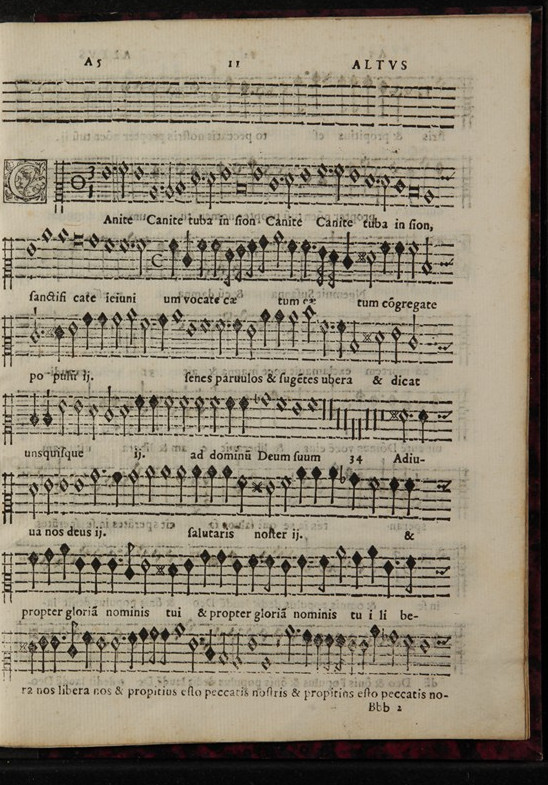c clef_9: (1, 548, 17, 607)
custos_6: (434, 553, 454, 587)
fusa_4: (314, 545, 331, 597), (401, 542, 417, 597), (260, 543, 272, 597)
fusa_7: (124, 534, 138, 587)
minim_2: (332, 539, 347, 589)
minim_5: (136, 552, 152, 598)
point: (390, 553, 404, 573), (113, 552, 126, 568), (305, 554, 316, 570), (255, 556, 265, 568)
semiminim_2: (365, 538, 379, 589), (57, 538, 71, 584)
semiminim_3: (349, 543, 364, 593), (198, 543, 211, 591), (214, 544, 227, 591), (43, 542, 55, 590)
semiminim_4: (25, 546, 40, 593), (294, 548, 308, 596), (246, 549, 259, 596)
semiminim_5: (72, 549, 86, 597), (88, 549, 102, 597), (278, 551, 292, 599), (381, 553, 395, 601), (181, 551, 195, 598), (230, 551, 244, 597), (105, 550, 118, 597)
semiminim_6: (165, 555, 178, 599)
sharp: (149, 557, 169, 579)
